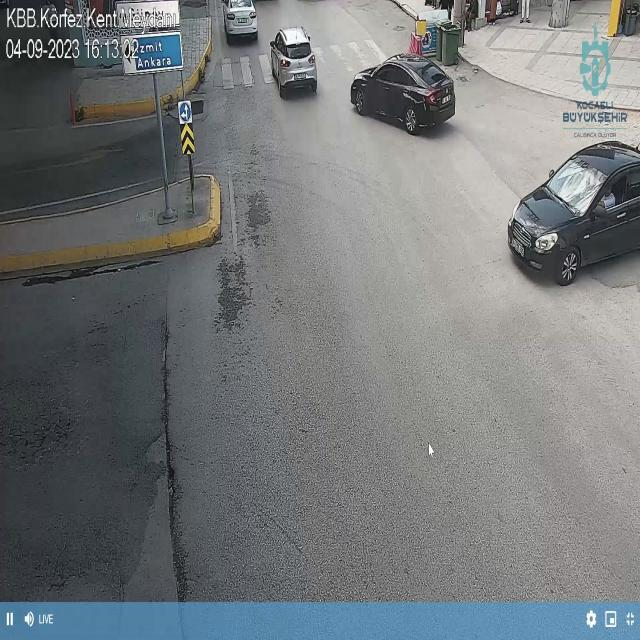car: (508, 141, 640, 285), (351, 54, 455, 133), (270, 26, 318, 97), (222, 0, 258, 42)
road-signs: (181, 124, 196, 154)
